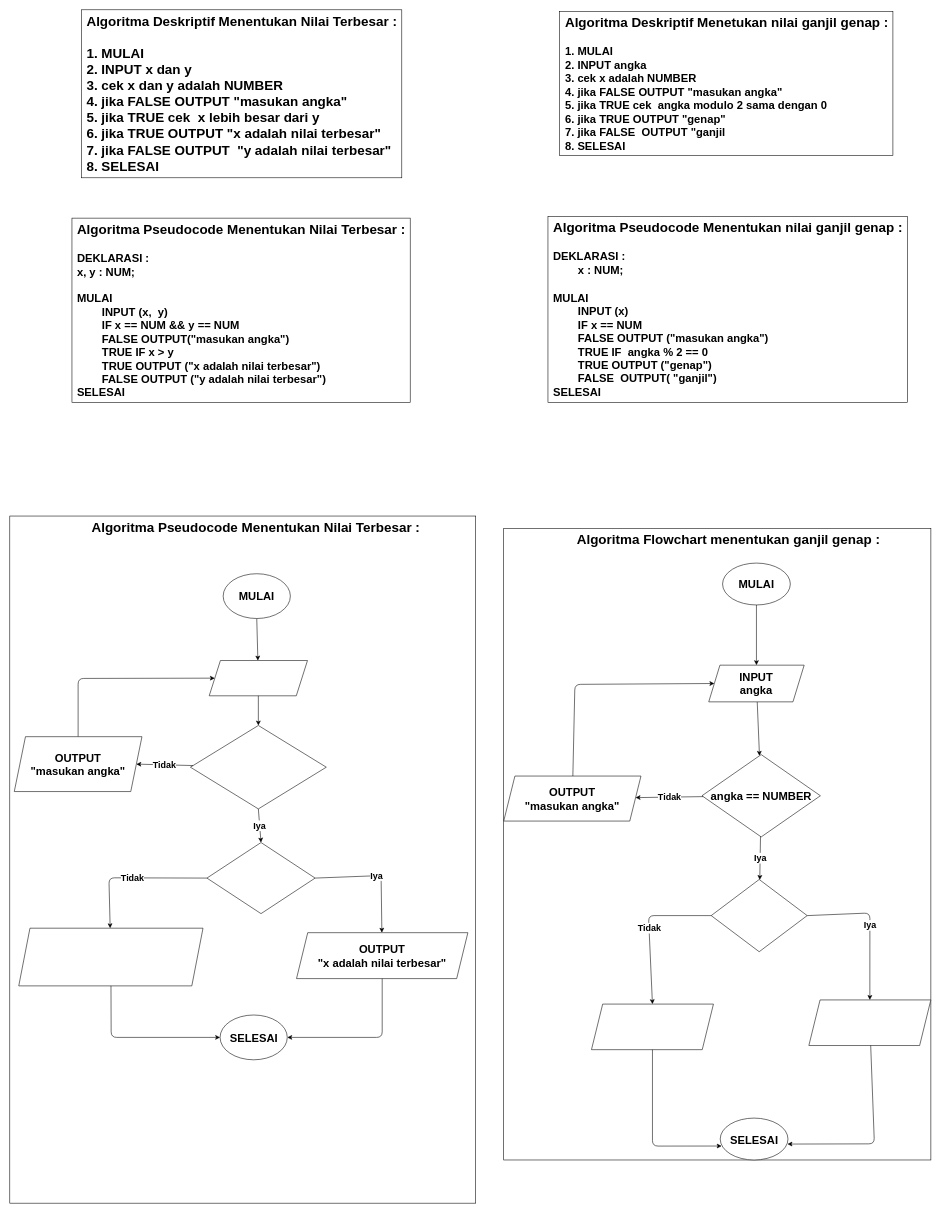
The diagram is 941 pixels wide and 1224 high, and some of its shapes have lost their labels. The shapes that lost their labels are listed below. From the top down, each one's centre as x and y in pixels, then its label:
pixel 258 678: INPUT x, y
pixel 258 767: x == NUMBER && y == NUMBER
pixel 260 878: x > y
pixel 759 915: angka % 2 == 0
pixel 110 957: OUTPUT "y adalah nilai terbesar"
pixel 652 1027: OUTPUT "ganjil"
pixel 869 1022: OUTPUT "genap"
